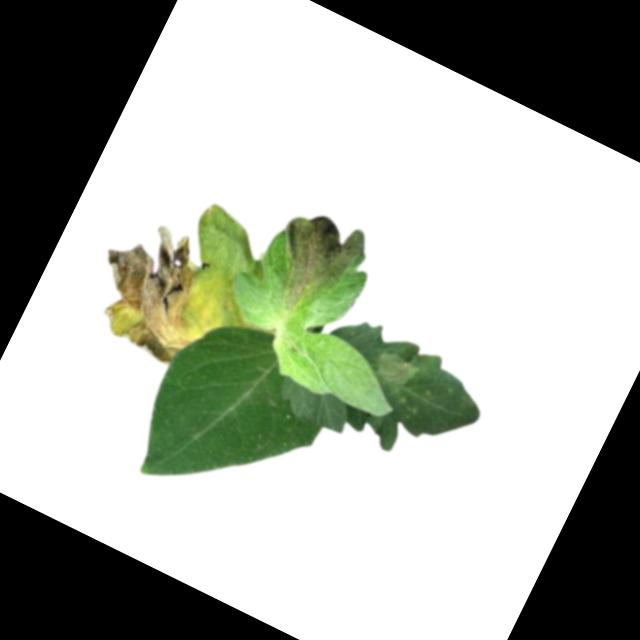Late_blight: (73, 206, 233, 371), (251, 196, 378, 331), (368, 348, 422, 394), (197, 199, 221, 228)
healthy: (119, 299, 349, 537)
